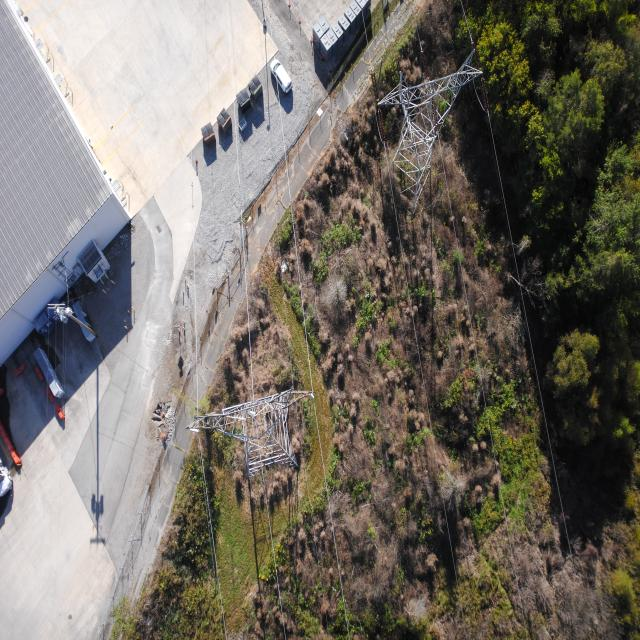Area of Interest: (476, 5, 640, 445)
